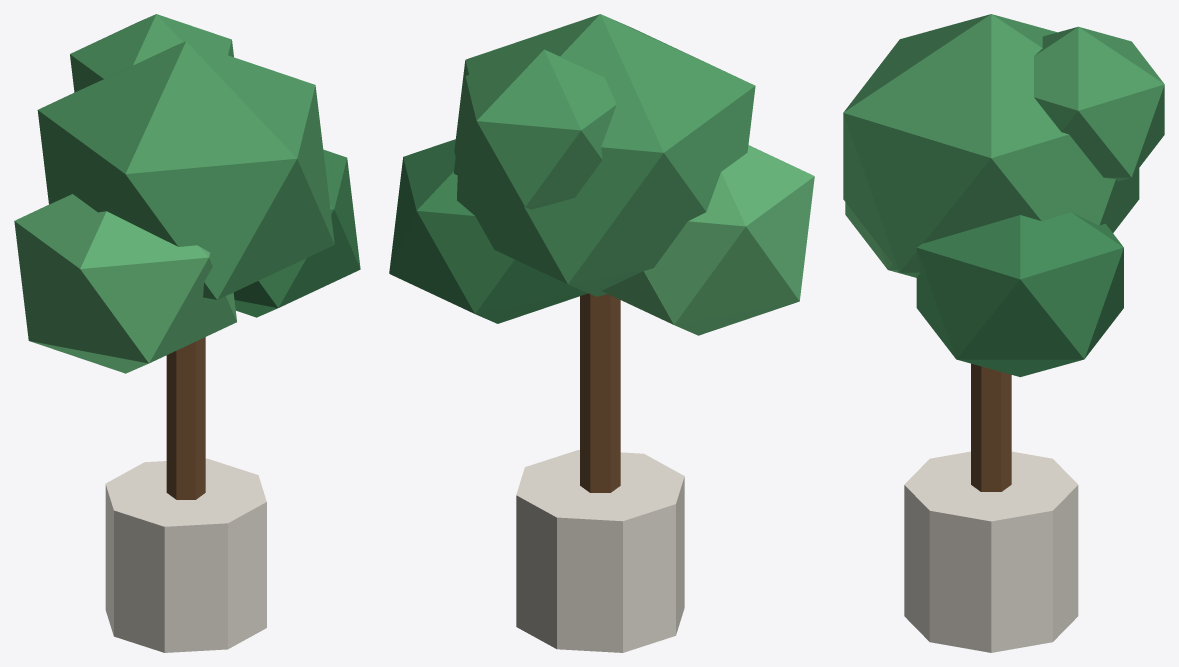
Rendered from tree.glb.
3 views of the same model, side by side, from view 1: azimuth 30°, elevation 25°; view 2: azimuth 150°, elevation 25°; view 3: azimuth 270°, elevation 25° (orthographic). The views are drawn at different scales.
Parts seen in each view (by area): view 1: canopy, pot, canopy.002, canopy.001, trunk, canopy.003; view 2: canopy, pot, canopy.002, canopy.003, canopy.001, trunk; view 3: canopy, pot, canopy.001, canopy.003, trunk, canopy.002.
Part boxes in pixels (<box>): canopy: <box>37,41,334,301</box>; pot: <box>105,458,266,652</box>; canopy.002: <box>14,194,236,373</box>; canopy.001: <box>233,149,360,317</box>; trunk: <box>166,337,205,499</box>; canopy.003: <box>70,14,233,92</box>; canopy: <box>454,14,755,296</box>; pot: <box>516,450,684,652</box>; canopy.002: <box>602,145,814,335</box>; canopy.003: <box>453,49,616,209</box>; canopy.001: <box>389,139,587,323</box>; trunk: <box>580,293,620,492</box>; canopy: <box>843,14,1139,277</box>; pot: <box>904,451,1078,652</box>; canopy.001: <box>916,212,1123,377</box>; canopy.003: <box>1034,26,1164,181</box>; trunk: <box>971,363,1011,491</box>; canopy.002: <box>845,202,916,277</box>.
Bounding box in the file's own units: 1.45 × 2.29 × 1.11.
